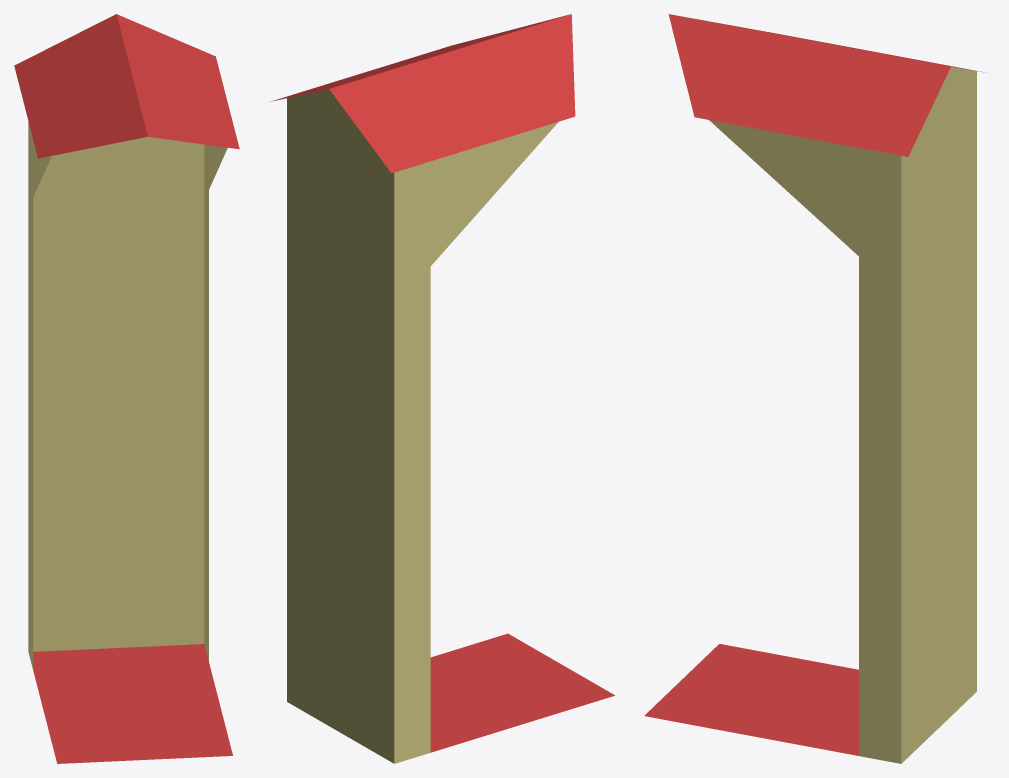
3 views of the same model, side by side, from view 1: azimuth 30°, elevation 25°; view 2: azimuth 150°, elevation 25°; view 3: azimuth 270°, elevation 25° (orthographic). The views are drawn at different scales.
Bounding box in the file's own units: 5.5 × 6.38 × 13.32.
